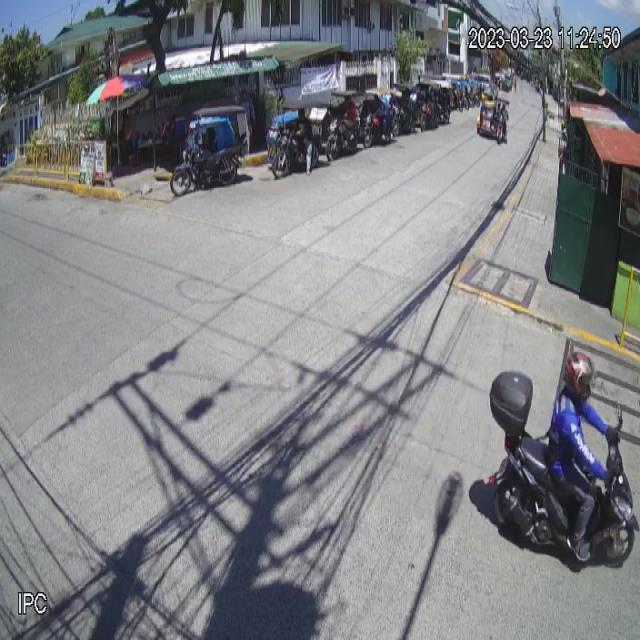Motorcycle: (484, 370, 640, 568)
